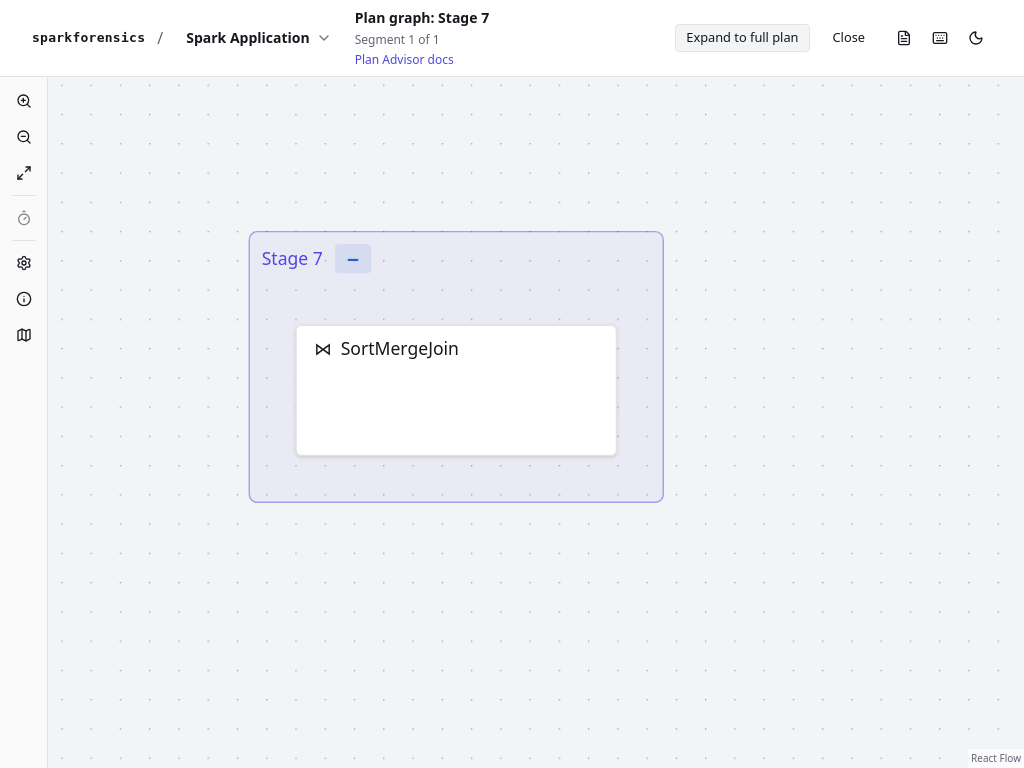
Test: Basic filter mode hides boilerplate nodes by default
Expected: the text "SortMergeJoin" is shown, [341, 338, 459, 361]
The hidden-node count lives inside the settings panel (see PlanGraphSettingsControl).
Click the button named "settings" at coordinates (24, 263), box [8, 247, 40, 279]
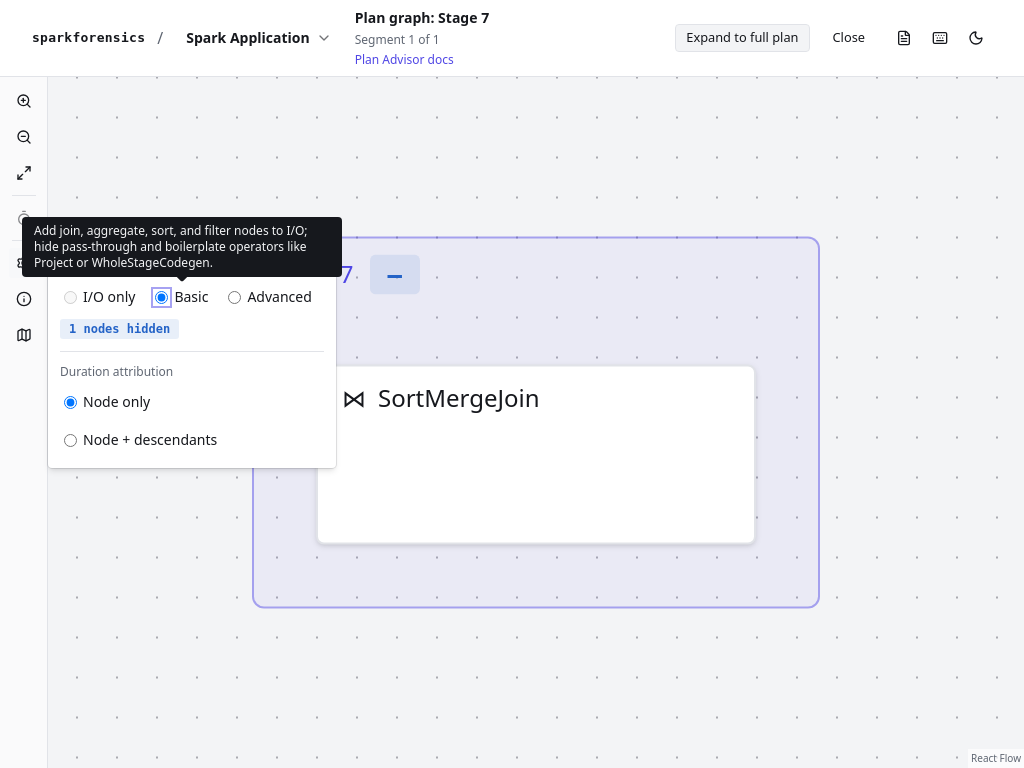
Expected: the text "1 nodes hidden" is shown, [60, 319, 179, 339]
Expected: the radio button labelled "Basic" is checked, [155, 290, 168, 304]
